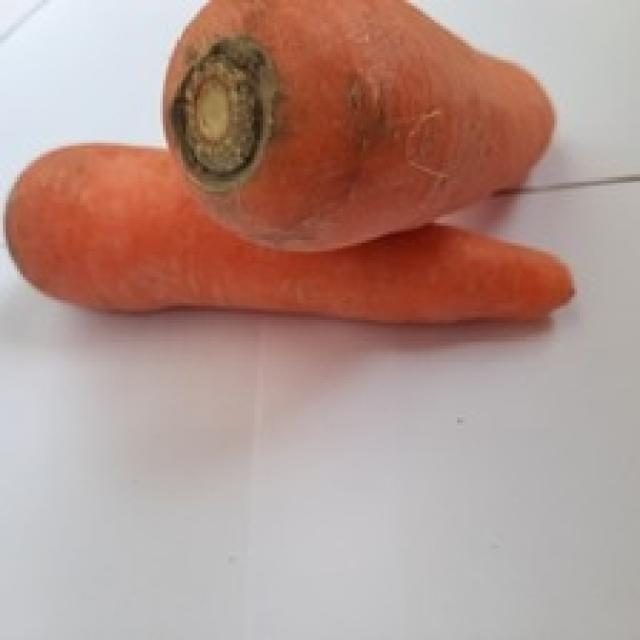carrot: (3, 143, 569, 317), (160, 0, 549, 246)
